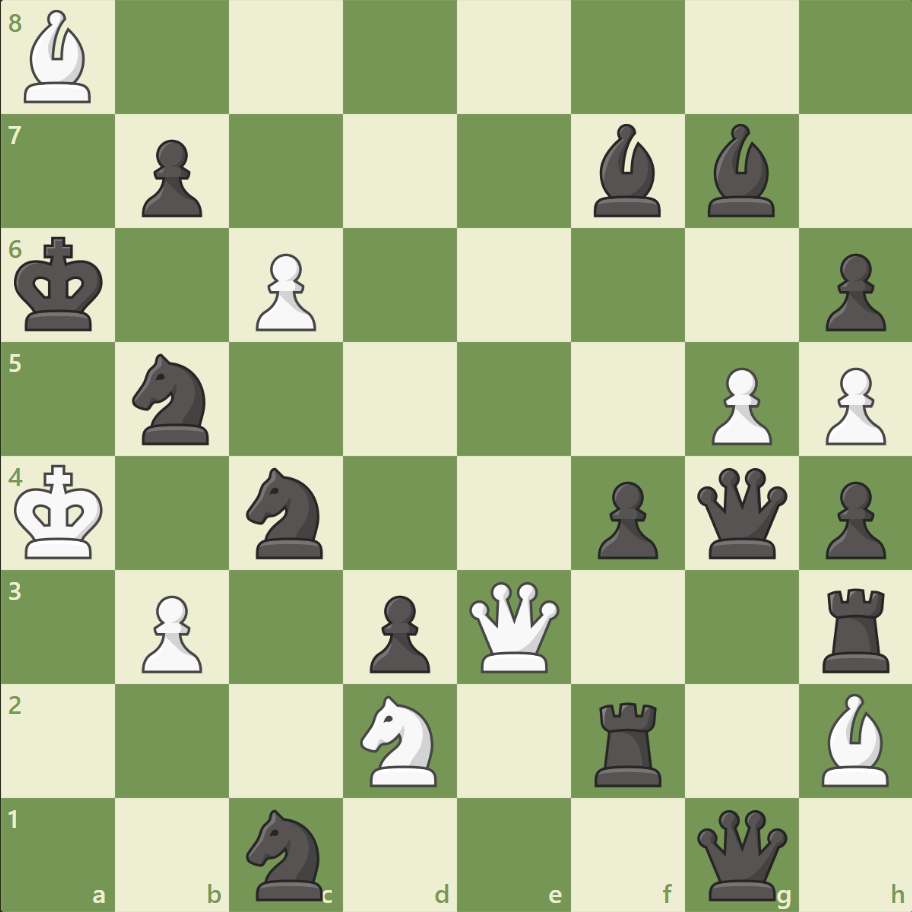B: (17, 6, 101, 109), (812, 687, 896, 790)
K: (11, 458, 111, 566)
N: (351, 688, 449, 791)
P: (247, 246, 322, 337), (701, 359, 776, 450), (133, 586, 208, 677), (815, 359, 889, 450)
Q: (464, 576, 563, 676)
b: (585, 120, 669, 222), (698, 120, 782, 222)
k: (11, 231, 111, 339)
n: (124, 348, 222, 450), (238, 461, 335, 564), (238, 802, 335, 904)
p: (133, 132, 208, 223), (815, 246, 889, 337), (588, 473, 662, 564), (815, 473, 889, 564), (361, 586, 435, 677)
q: (691, 463, 790, 562), (691, 804, 790, 903)
r: (814, 579, 897, 676), (587, 693, 670, 790)
